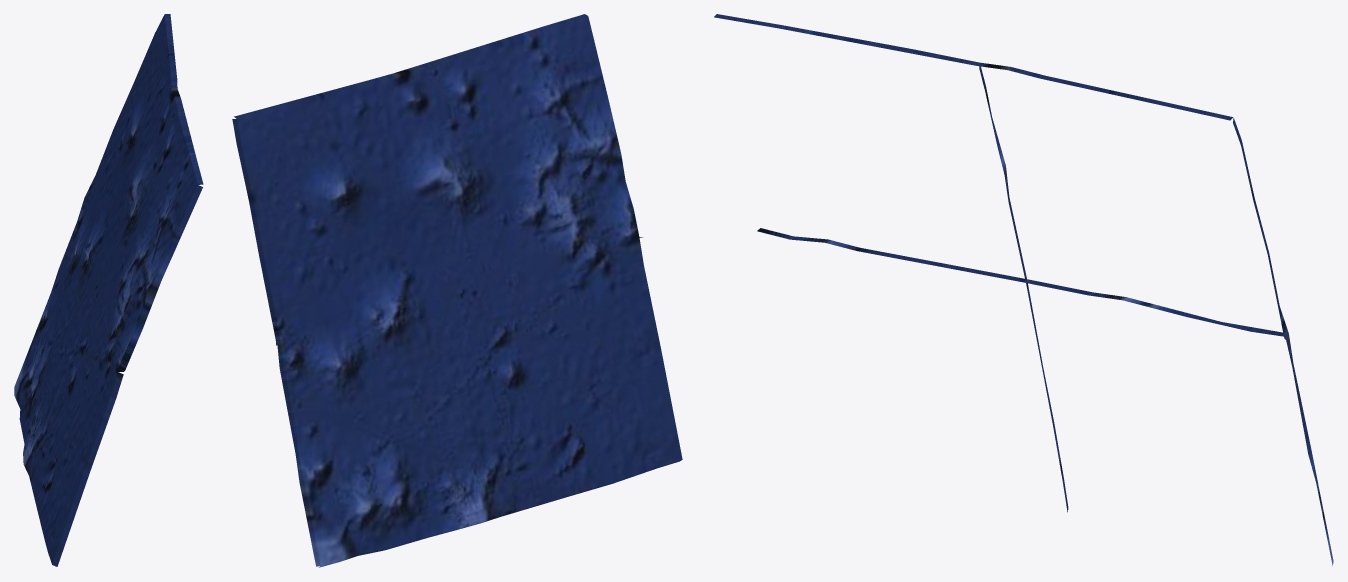
The picture shows the model from 3 angles, left to right: view 1: azimuth 30°, elevation 25°; view 2: azimuth 150°, elevation 25°; view 3: azimuth 270°, elevation 25°; orthographic projection. The views are drawn at different scales.
Bounding box in the file's own units: 450141 × 593886 × 631227.
1 material, 1 textured.
